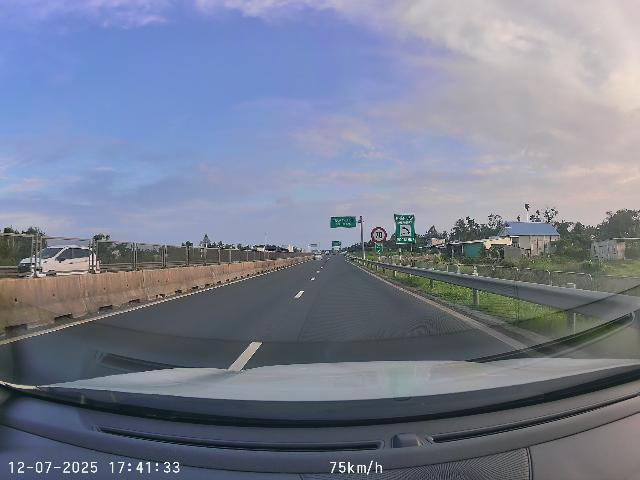127-toc-do-toi-da-70: (371, 227, 387, 243)
